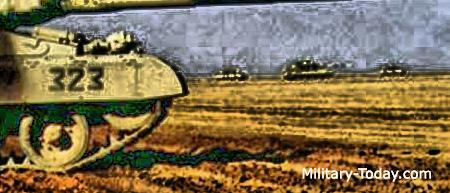tanks: (1, 1, 275, 170), (302, 1, 342, 3)
